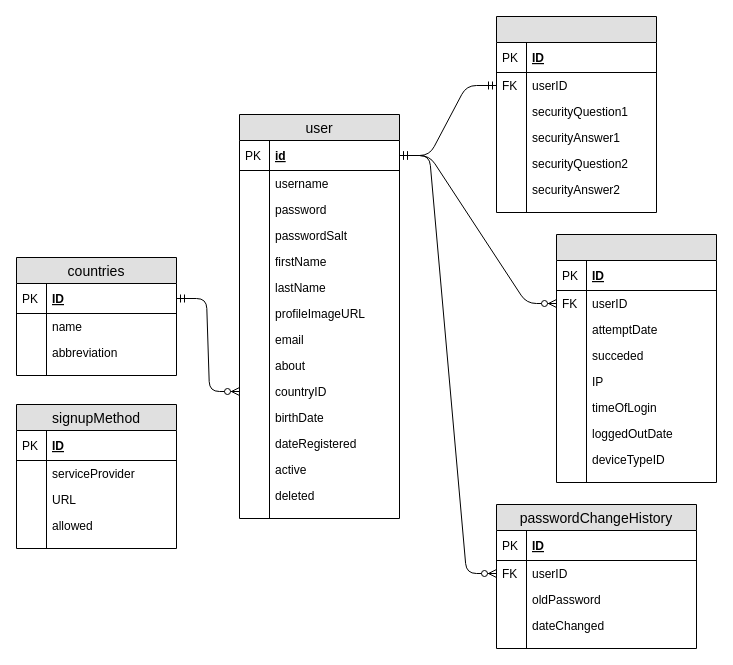
The diagram is 733 pixels wide and 665 high, and some of its shapes have lost their labels. The box of each missing label's shape, as (x1, y1, x2, y2) in pixels:
loginHistory: (556, 234, 716, 482)
passwordReminder: (496, 16, 656, 212)
